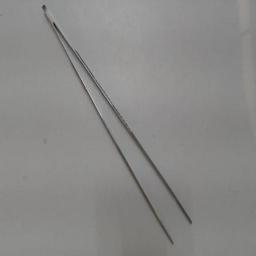DeBakey Dissector: (37, 0, 211, 254)
